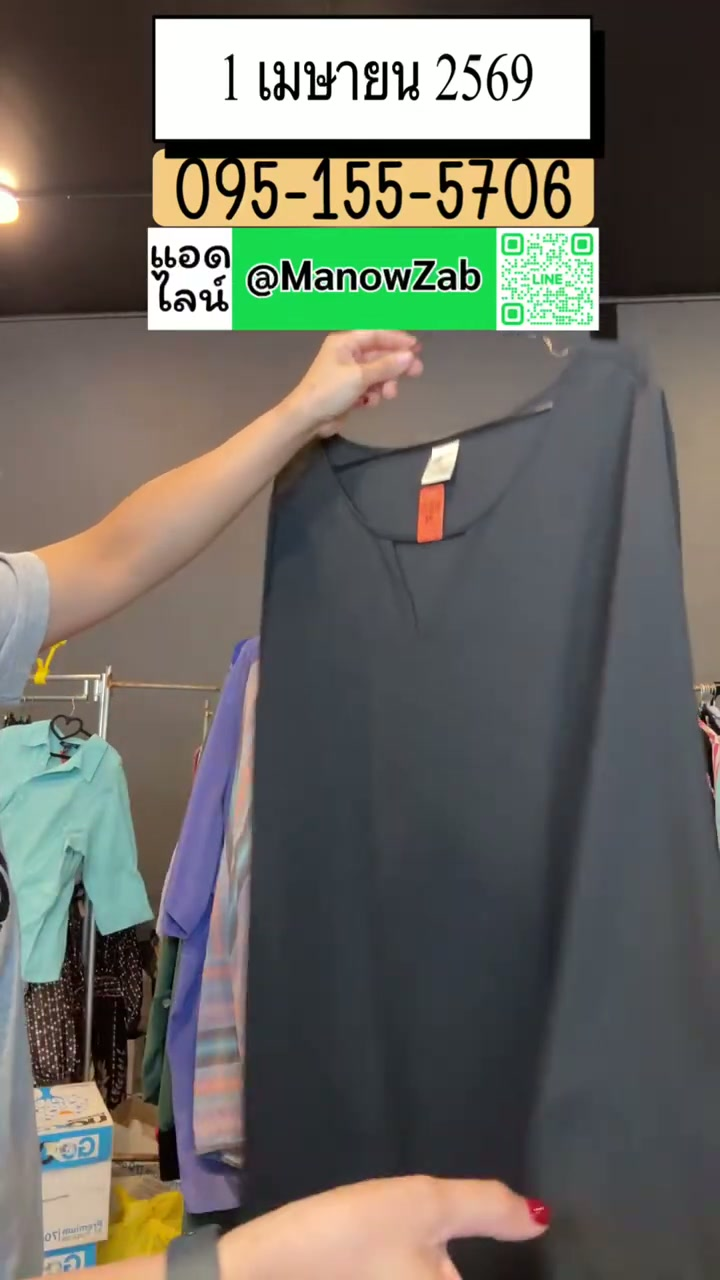display_shirt: (245, 342, 719, 1279)
